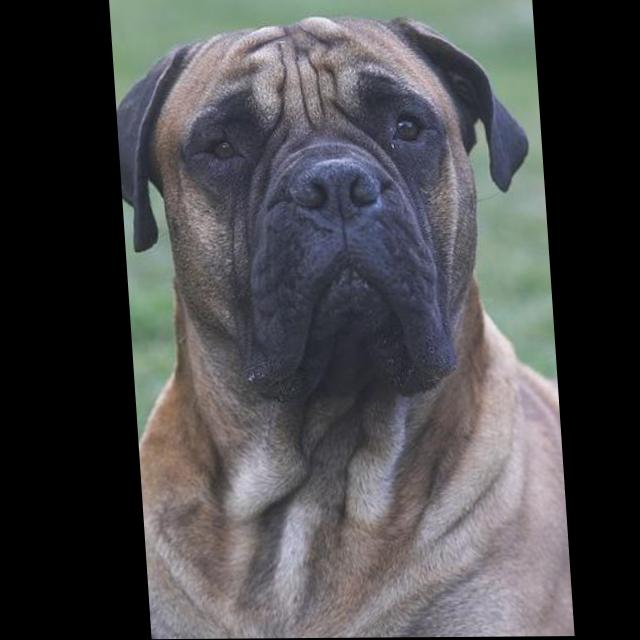bullmastiff: (110, 14, 566, 640)
